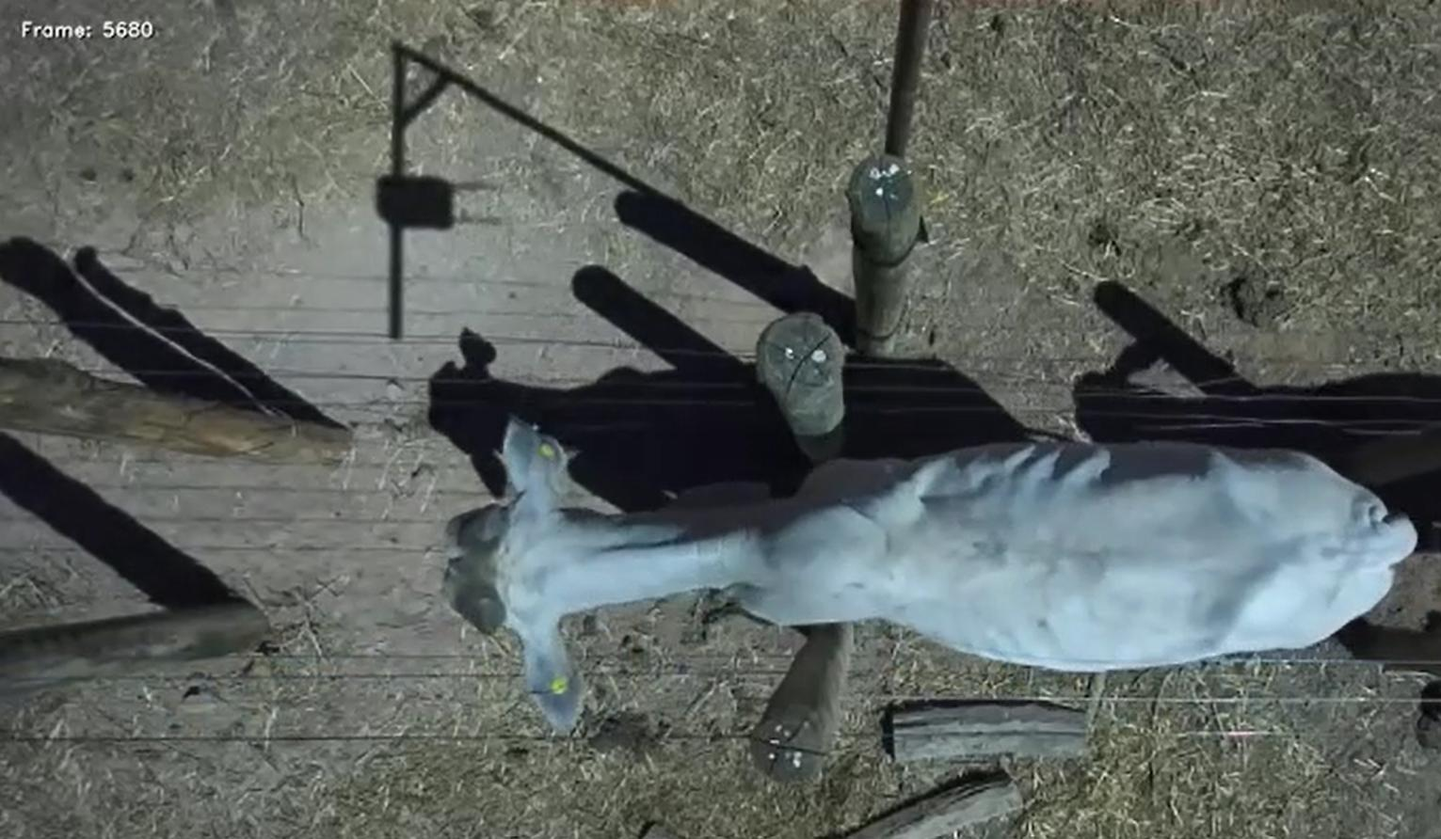cattle: (440, 411, 1419, 780)
